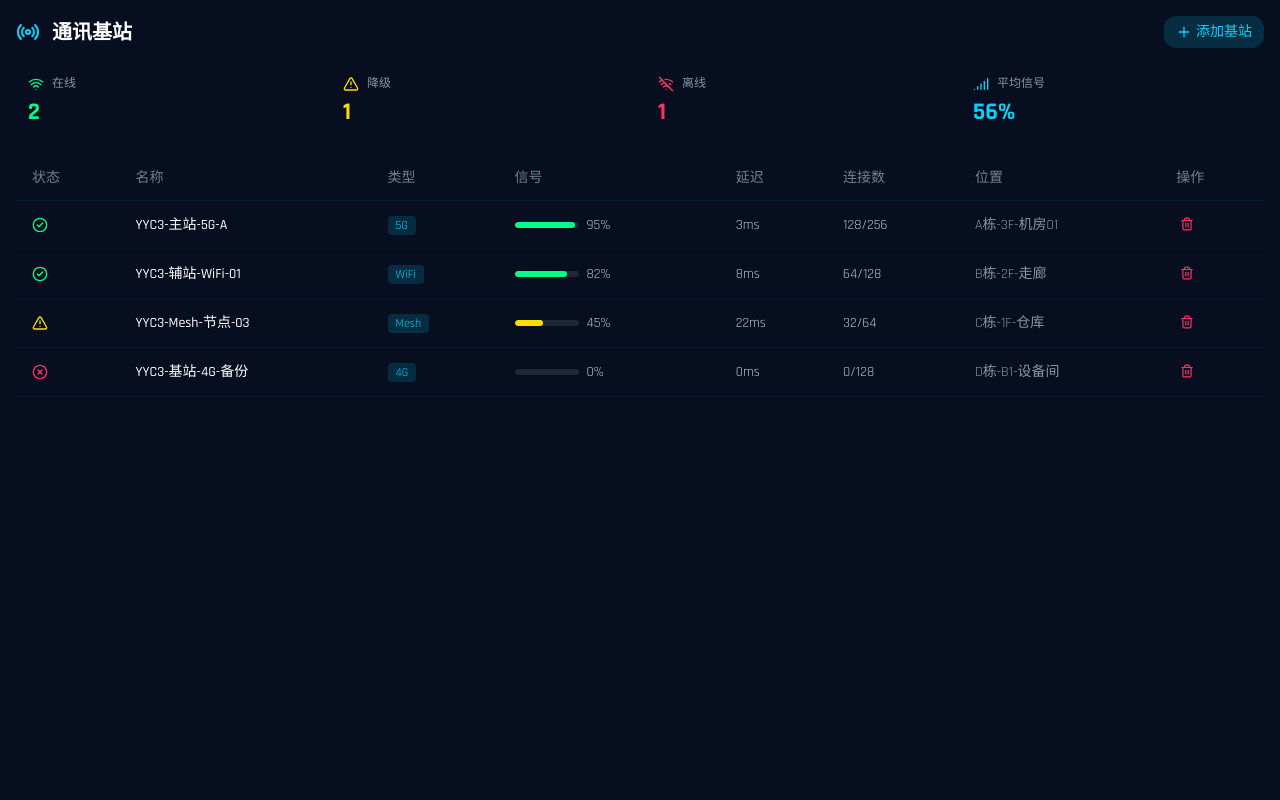
CommStationPanel › 添加基站 › cancel button hides add form
Click the button "添加基站".
click(1214, 32)  # box [1164,16,1264,48]
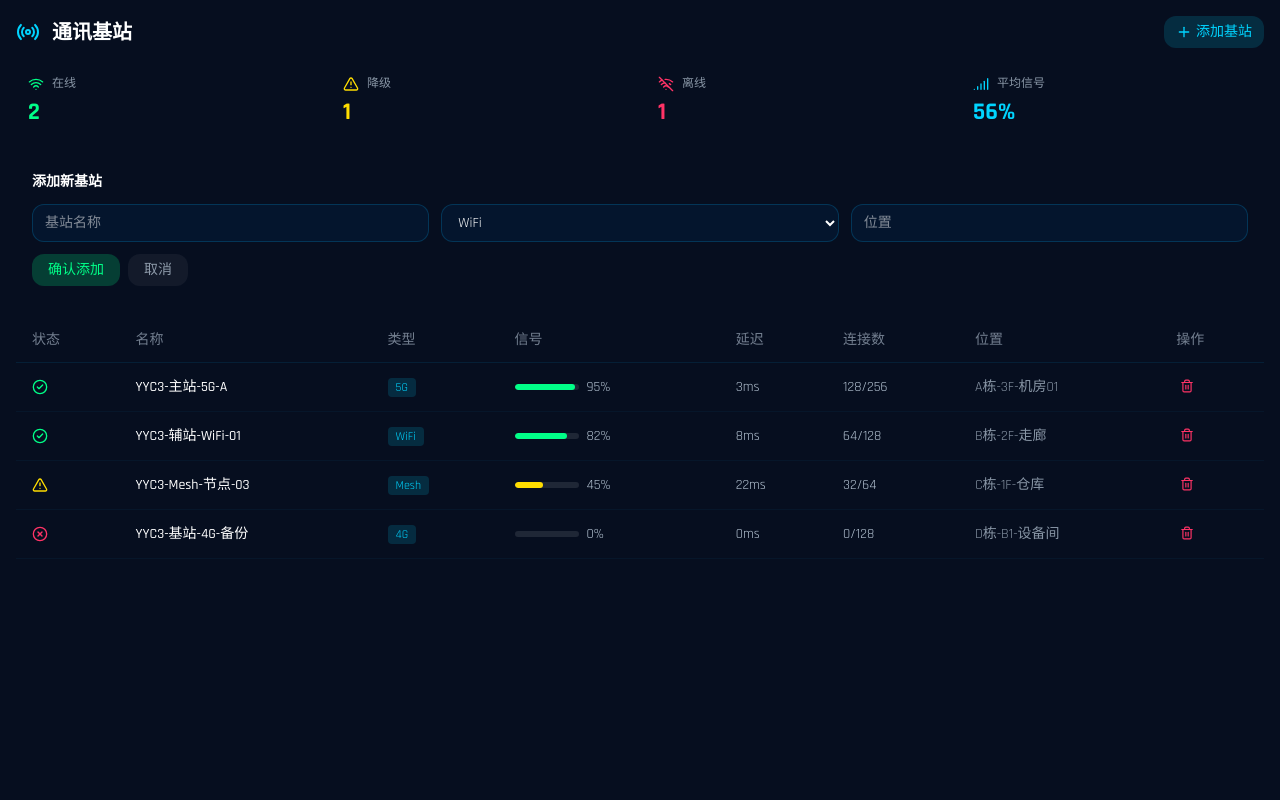
Expected: the heading "添加新基站" is shown, [32,173,102,191]
Click the button "取消".
click(158, 270)  # box [128,254,188,286]
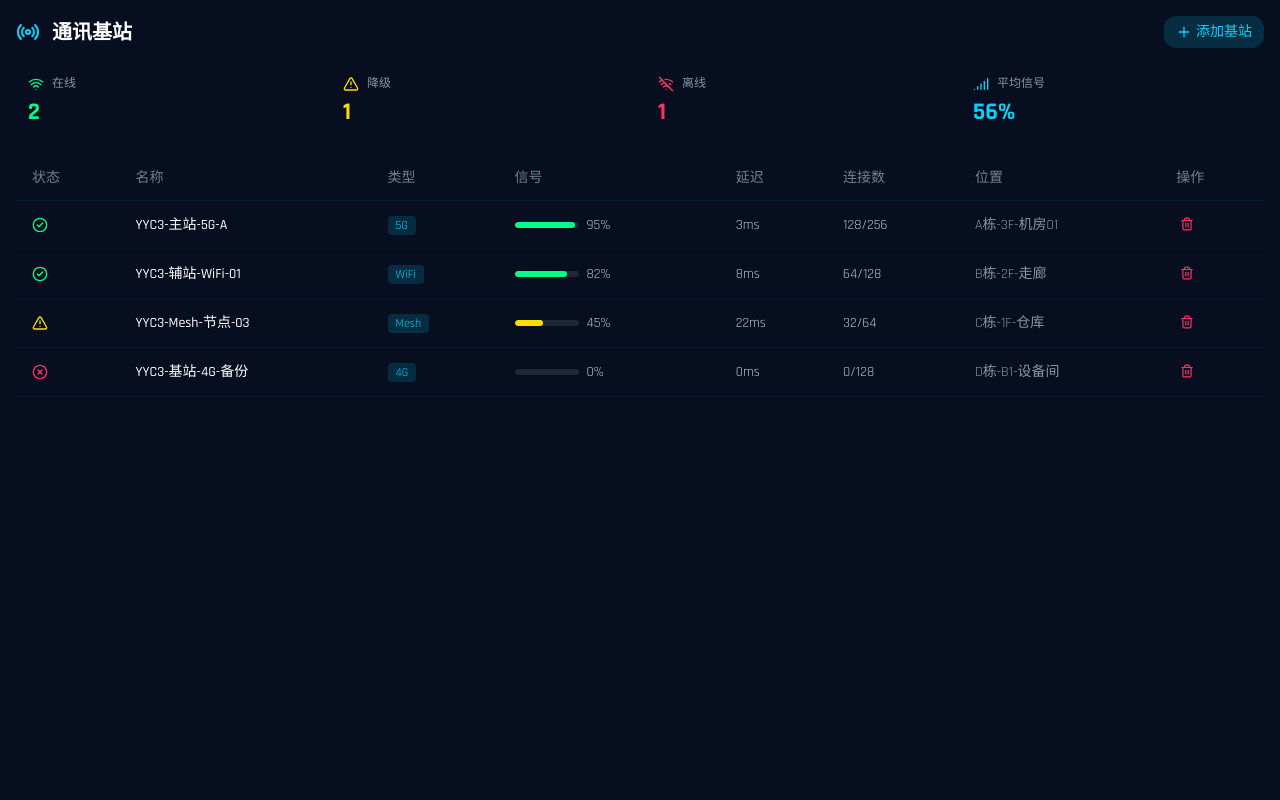
Expected: the heading "添加新基站" is gone
